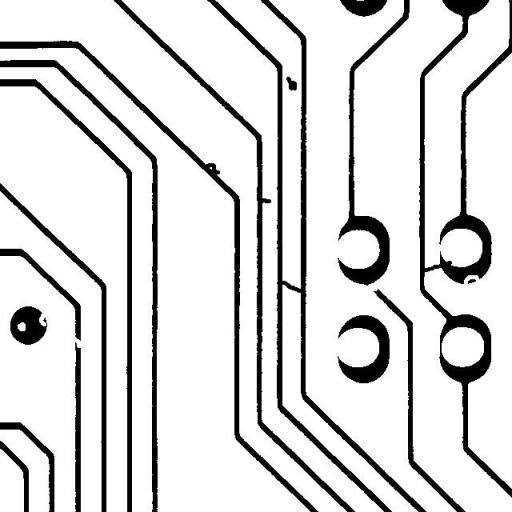copper: (278, 68, 304, 98)
mousebite: (456, 268, 486, 294), (31, 304, 54, 334)
open: (352, 276, 386, 298), (64, 329, 89, 355)
pin-hole: (10, 314, 32, 338)
short: (414, 253, 460, 279), (270, 273, 312, 300)
spur: (198, 155, 227, 182), (252, 190, 278, 210)
